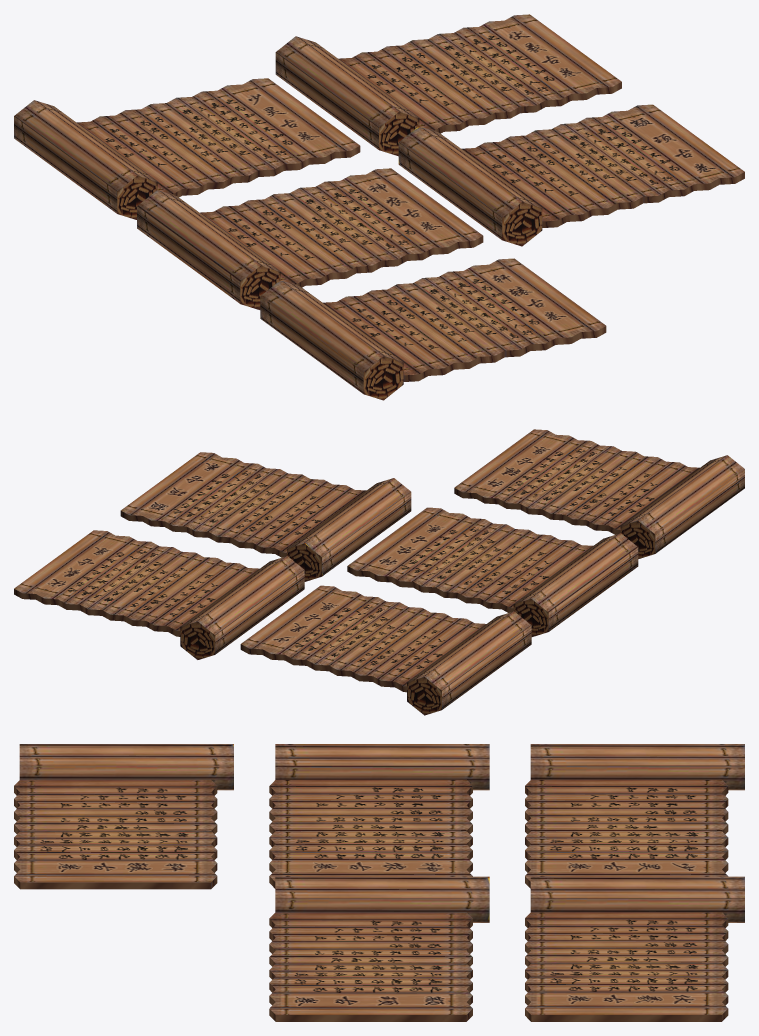
Rendered from S7_shujuan_hecheng001.FBX.
3 renders of one model, top to bottom at view 1: azimuth 30°, elevation 25°; view 2: azimuth 150°, elevation 25°; view 3: azimuth 270°, elevation 25°, orthographic. The views are drawn at different scales.
Visible parts, largest first — view 1: S7_shujuan_004, S7_shujuan_005, S7_shujuan_002, S7_shujuan_003, S7_shujuan_001; view 2: S7_shujuan_001, S7_shujuan_002, S7_shujuan_003, S7_shujuan_004, S7_shujuan_005; view 3: S7_shujuan_004, S7_shujuan_002, S7_shujuan_005, S7_shujuan_003, S7_shujuan_001.
Part boxes in pixels (x1,y1,x2,y2): S7_shujuan_004: (398, 104, 744, 246); S7_shujuan_005: (260, 258, 606, 400); S7_shujuan_002: (275, 14, 621, 156); S7_shujuan_003: (137, 168, 483, 309); S7_shujuan_001: (14, 78, 360, 219); S7_shujuan_001: (240, 585, 531, 715); S7_shujuan_002: (14, 530, 304, 659); S7_shujuan_003: (347, 507, 638, 636); S7_shujuan_004: (120, 452, 411, 581); S7_shujuan_005: (454, 429, 744, 558); S7_shujuan_004: (269, 876, 489, 1021); S7_shujuan_002: (525, 876, 744, 1021); S7_shujuan_005: (14, 744, 233, 889); S7_shujuan_003: (269, 744, 489, 888); S7_shujuan_001: (525, 744, 744, 888).
Size of the model in its own units: 3.1 by 0.2624 by 3.75.
1 material, 1 textured.
